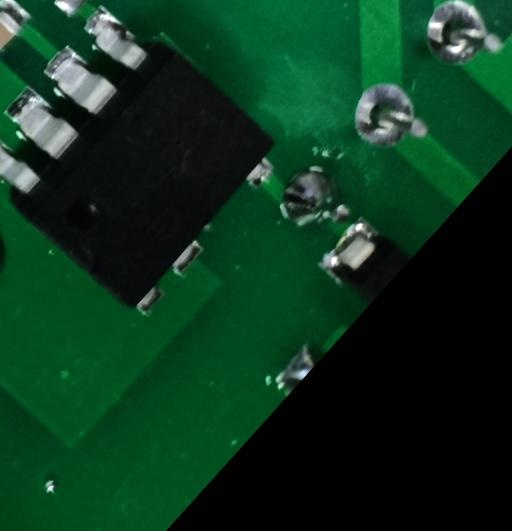ic: (0, 0, 300, 326)
